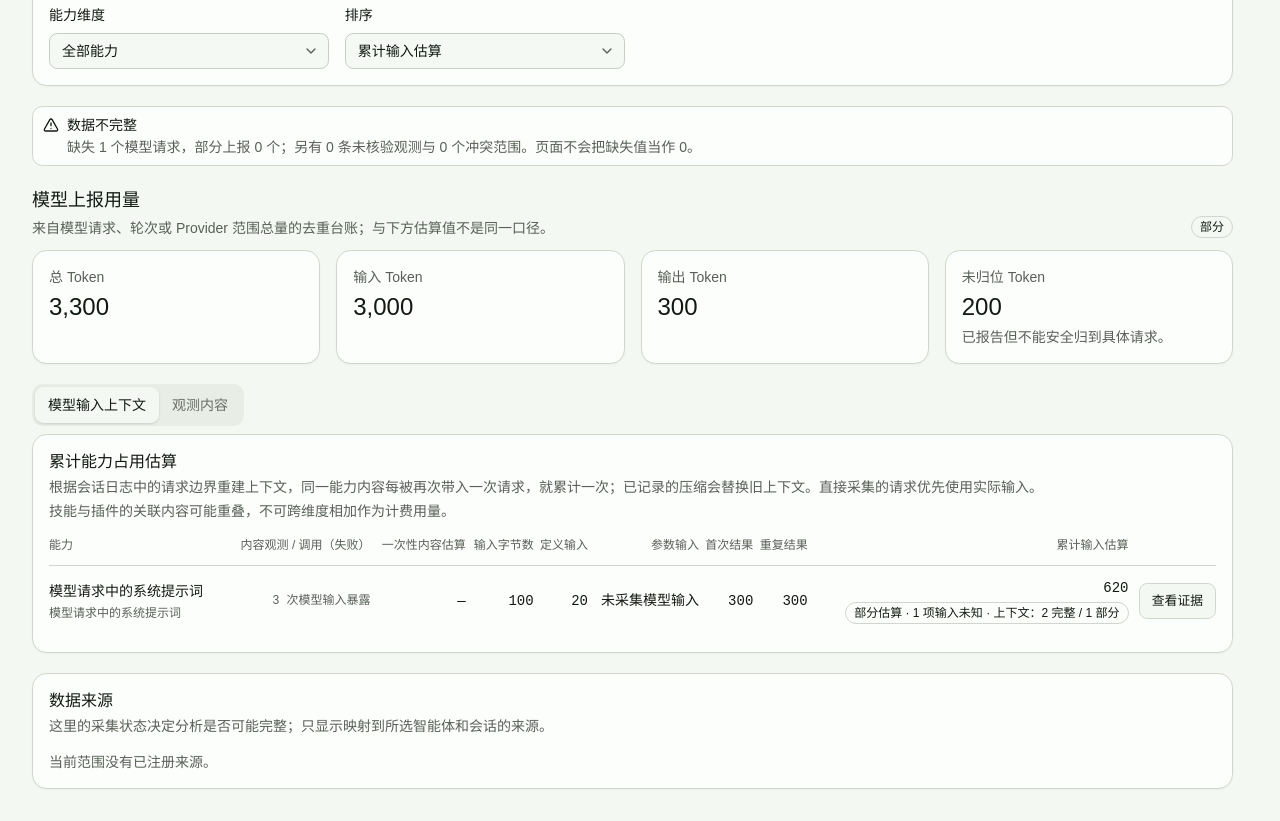
Test: opens model-input evidence directly for system prompts without runtime observations
(page scrolled)
Expected: the text "3 次模型输入暴露" is shown, [272,594,371,608]
Expected: the text "累计能力占用估算" is shown, [49,453,177,470]
Step 1. Click the button with aria-label "查看 模型请求中的系统提示词 的内容证据" → (1177,601), box [1139,583,1216,619]
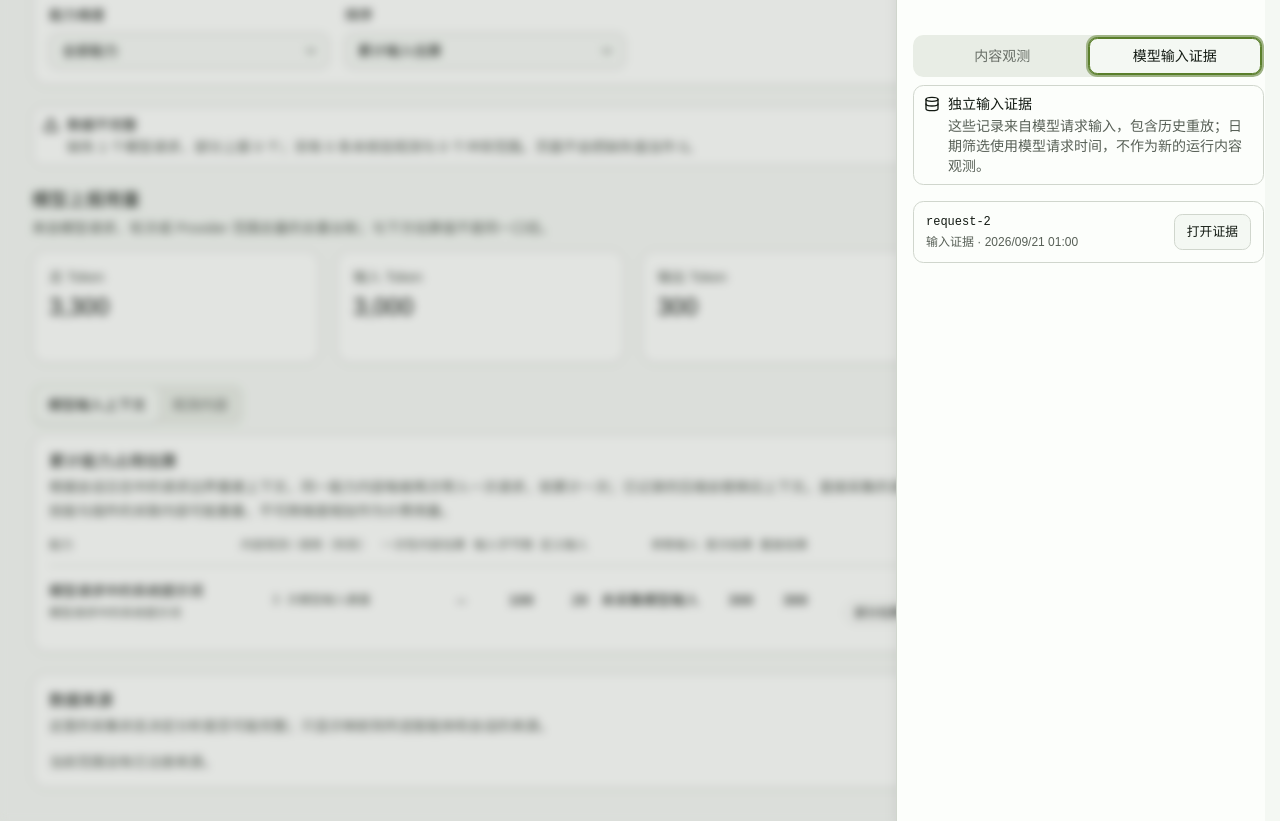
Result: the button with aria-label "打开输入证据 evidence-1" is shown at [1174,214,1251,250]
